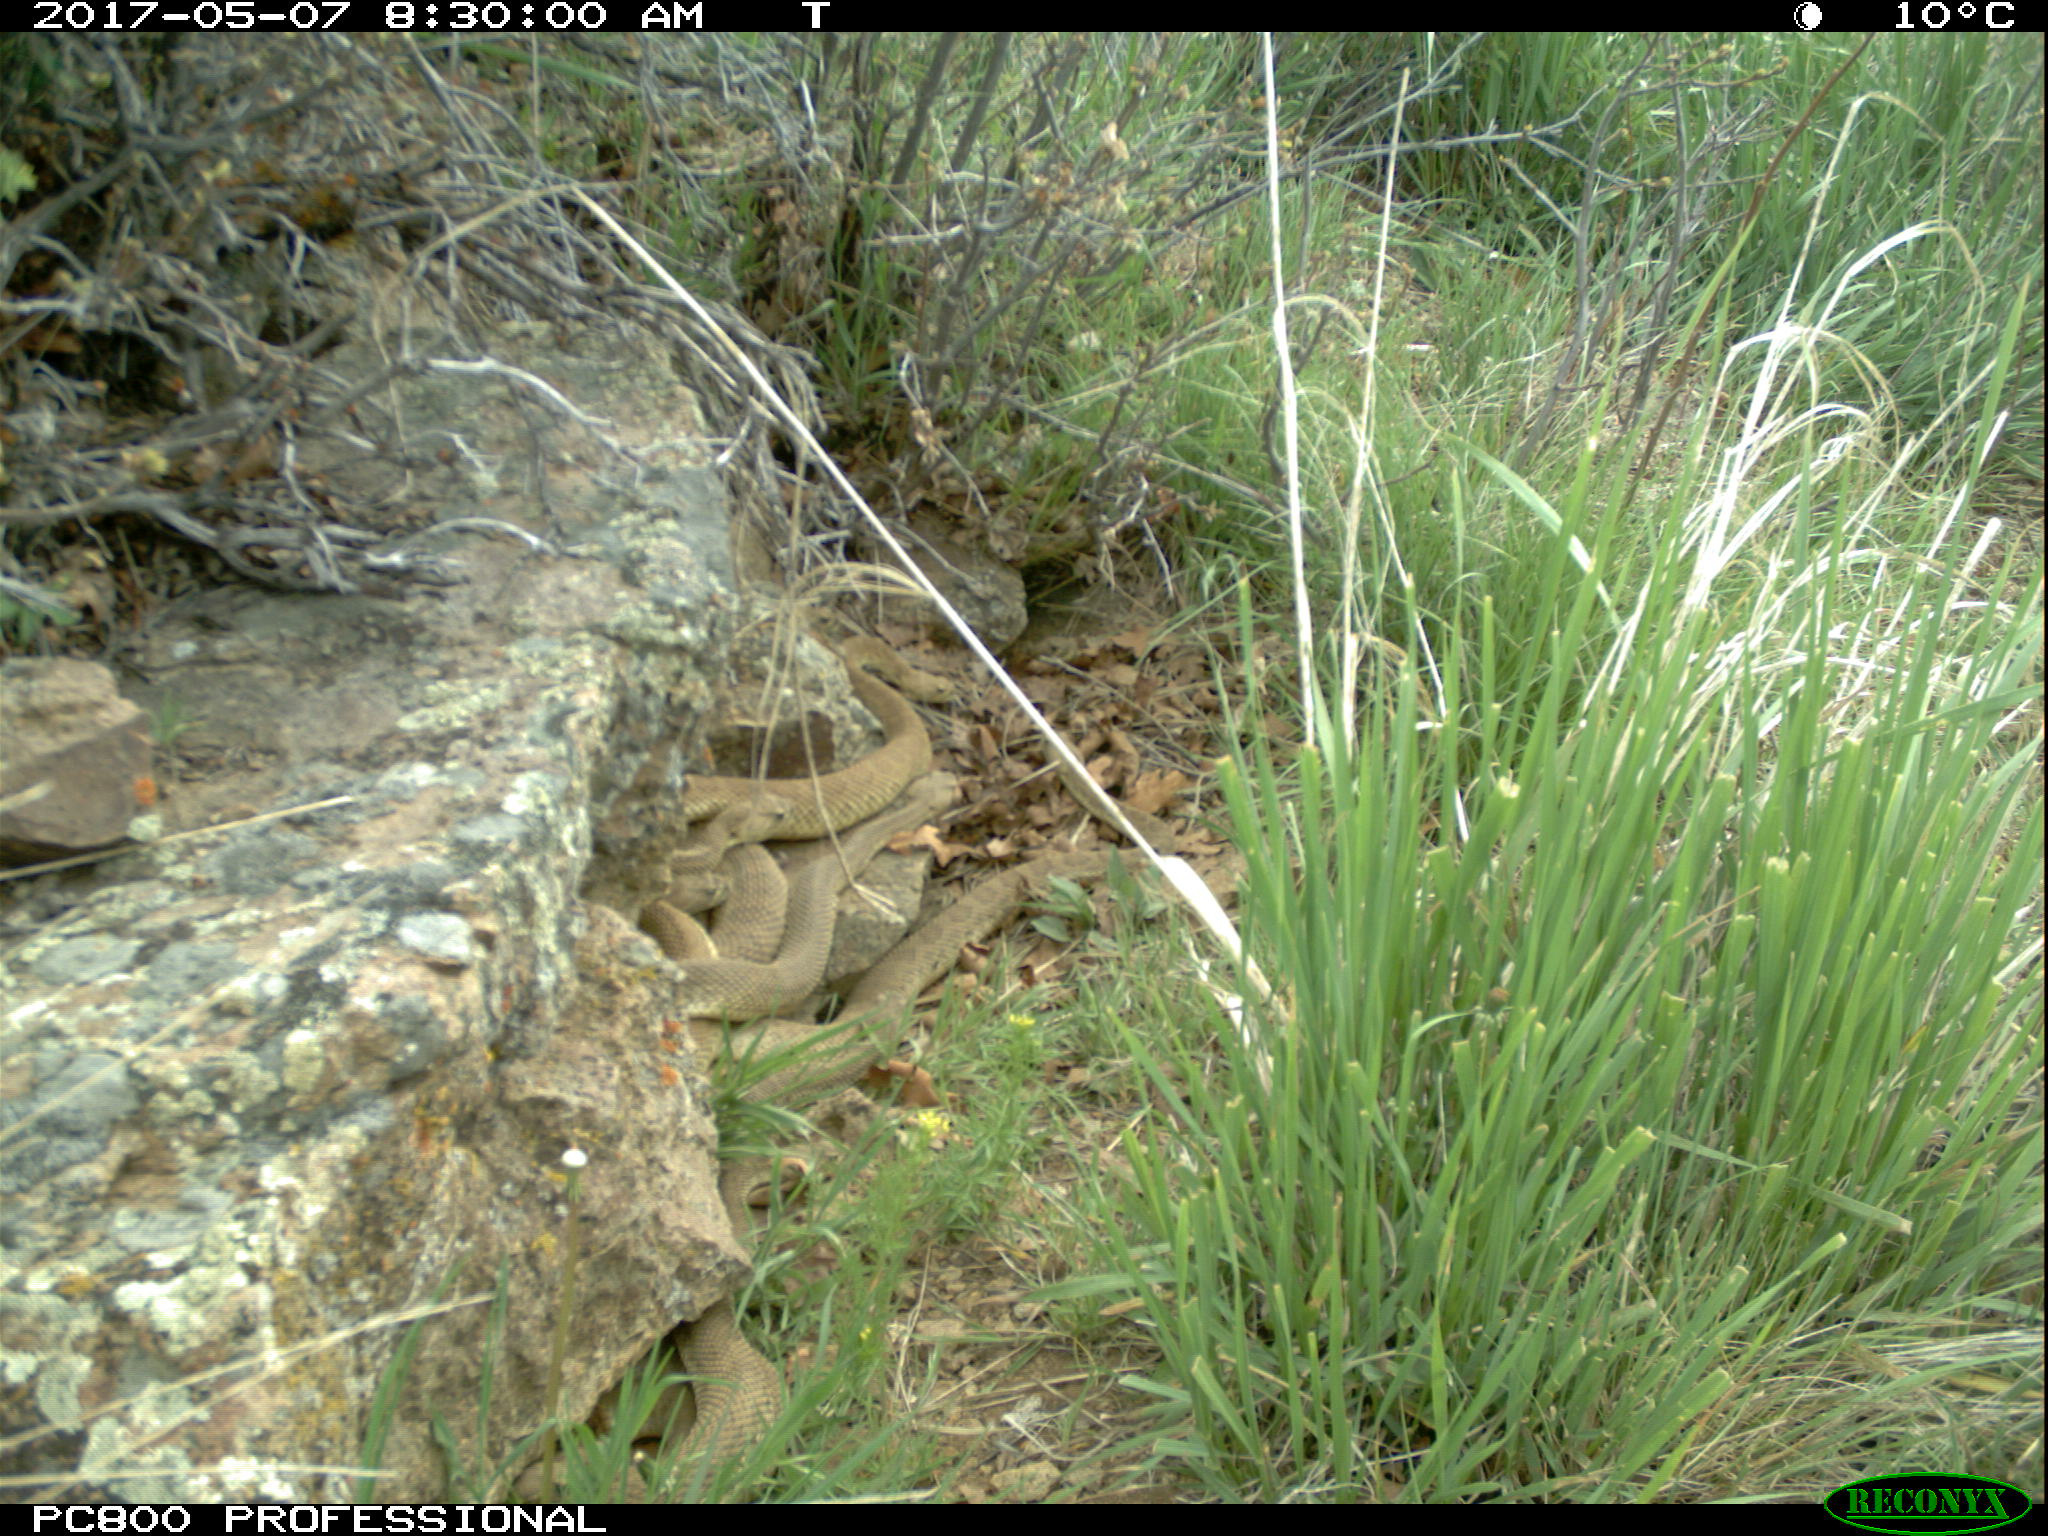snake: (835, 842, 1150, 1037), (687, 632, 948, 816), (672, 803, 837, 1016), (656, 1297, 785, 1501), (713, 1155, 790, 1263)
